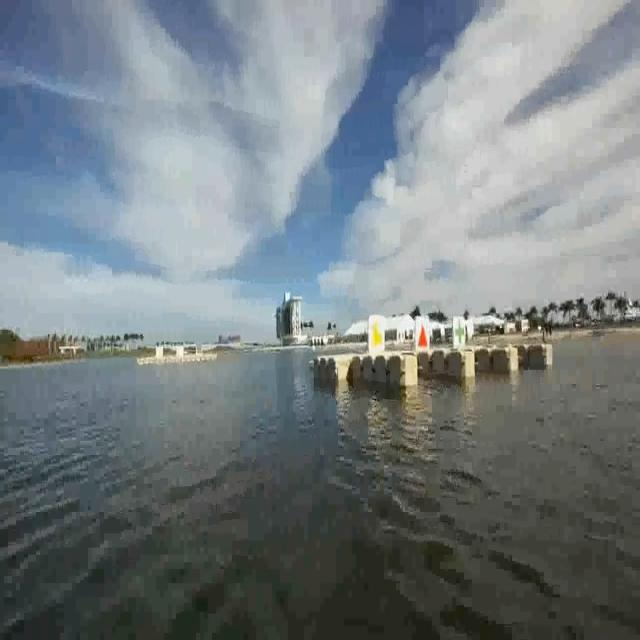blue-cross: (451, 320, 466, 350)
yellow-duck: (368, 315, 388, 351)
